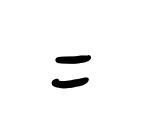eqv: (46, 51, 94, 91)
